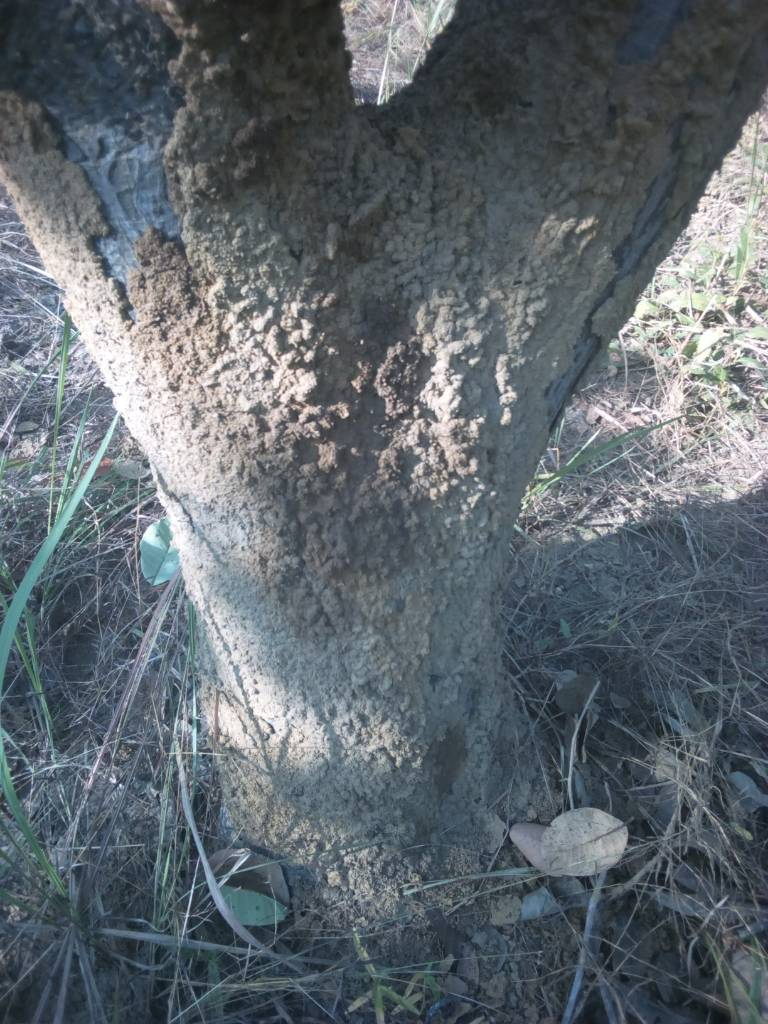Termites: (199, 310, 525, 861), (180, 13, 641, 308), (24, 122, 182, 349)
